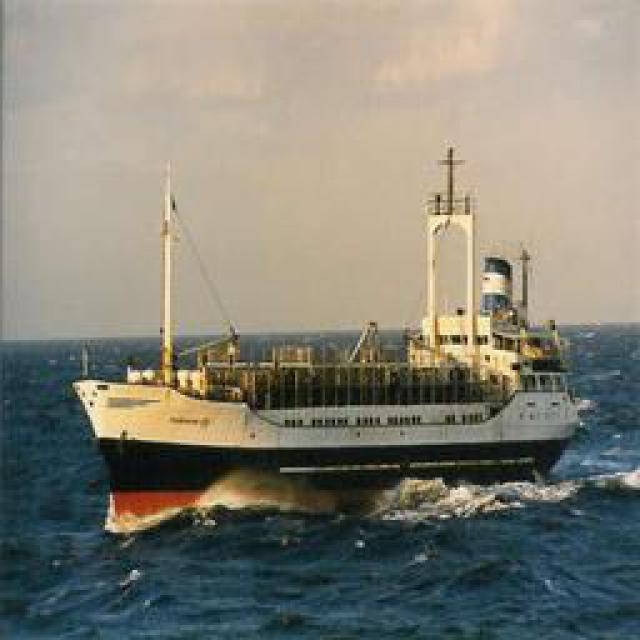Ship: (80, 154, 590, 494)
